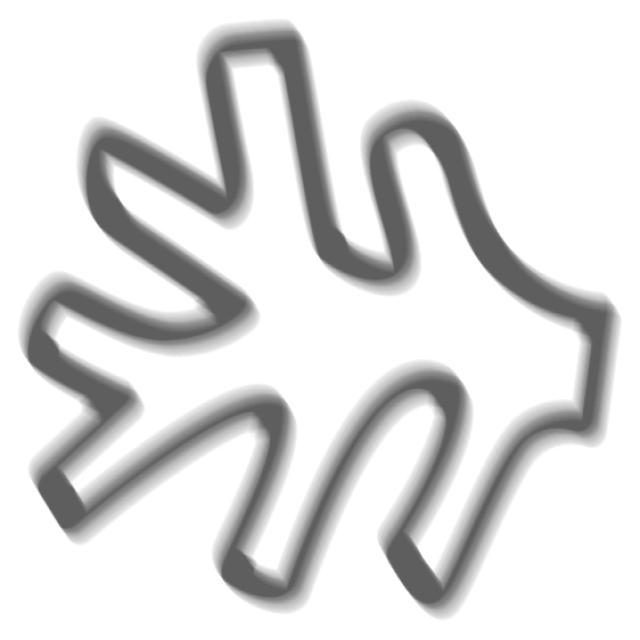coral: (12, 14, 629, 640)
